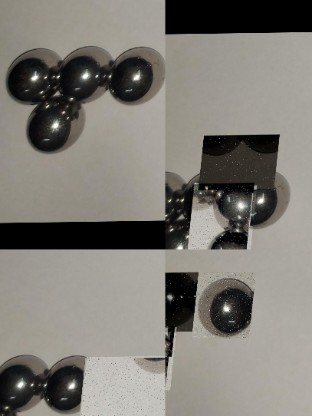ironball: (196, 272, 259, 339), (21, 96, 91, 155), (109, 35, 165, 105), (58, 40, 114, 108), (3, 42, 64, 100), (0, 349, 45, 413), (165, 271, 202, 332), (44, 352, 79, 410), (211, 185, 244, 231), (248, 187, 280, 229), (164, 170, 190, 216), (205, 227, 251, 248), (167, 224, 190, 248)
